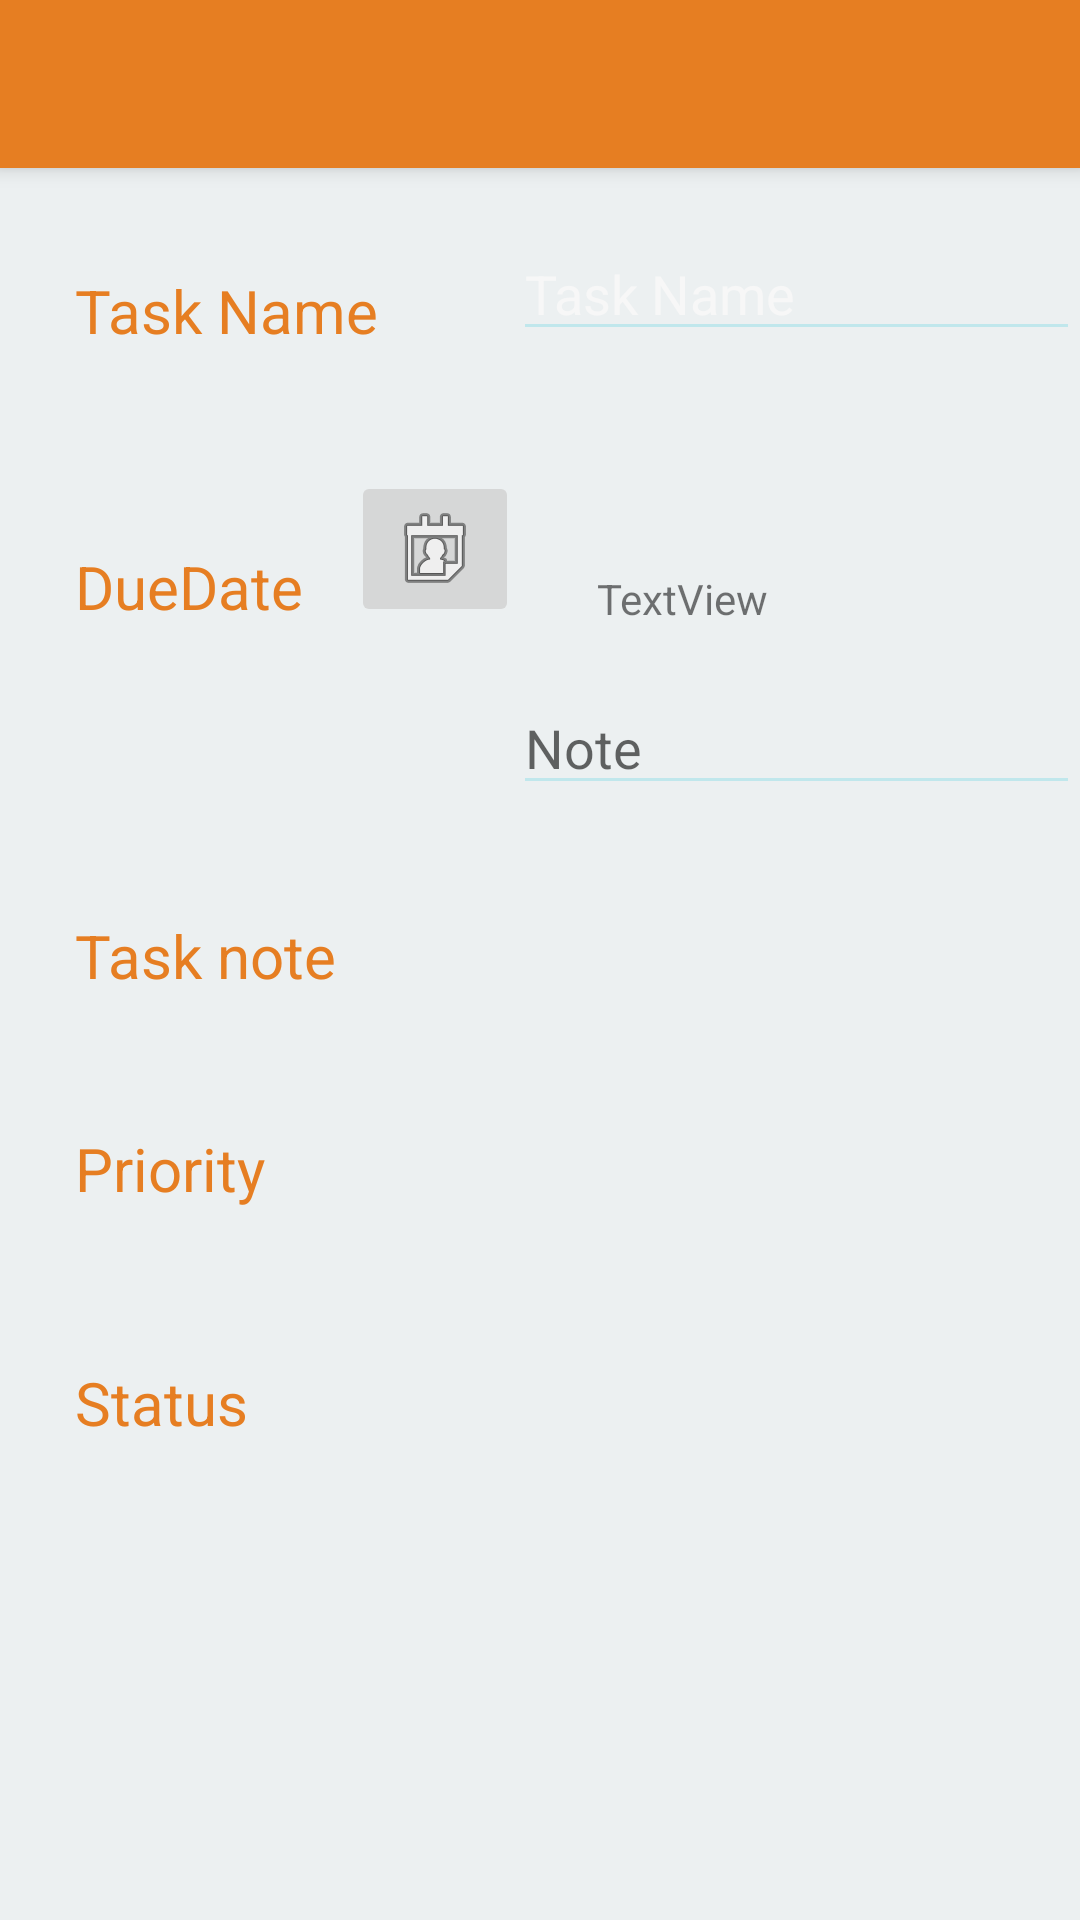

Icon click points for this 1080*1920 phone screenshot, format (x=x, y=y):
calendar: (x=435, y=549)
